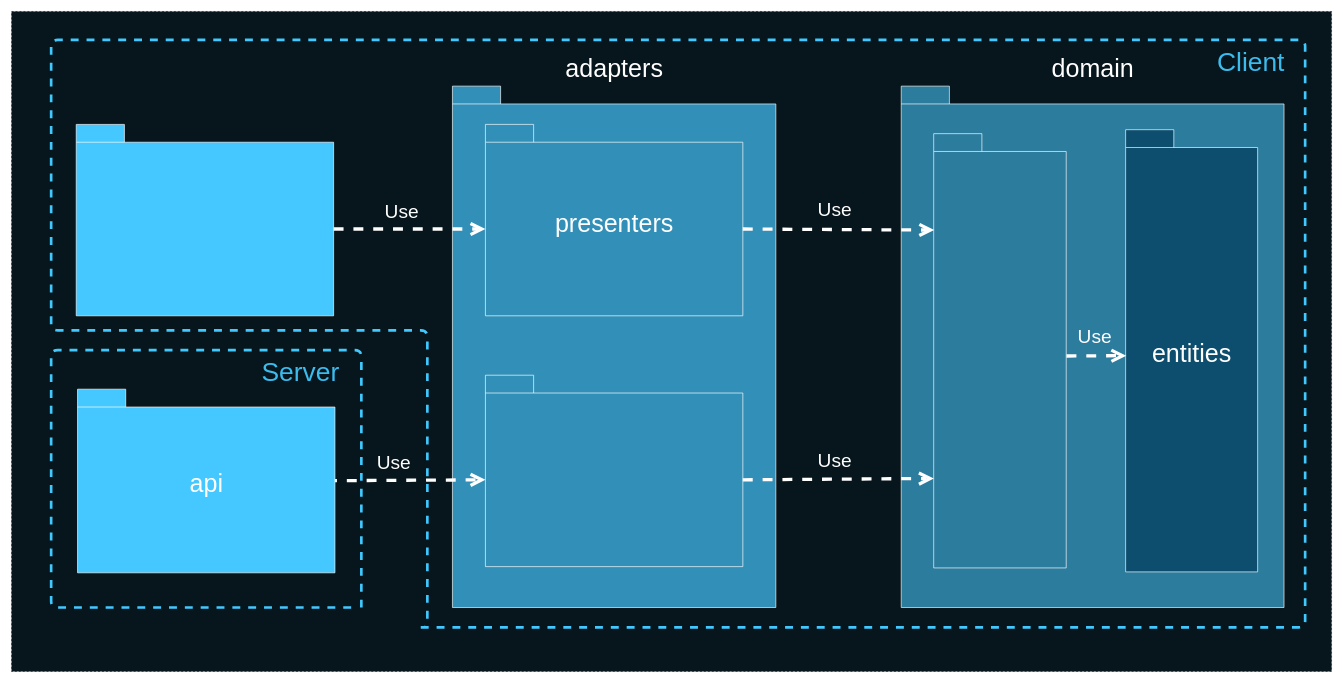
This 1343x683 diagram has some shape labels left out. Here are the shapes that lost their labels. From the top down, the centre of each, then its label:
pixel 205 220: ui
pixel 999 350: usecases
pixel 614 471: gateways
